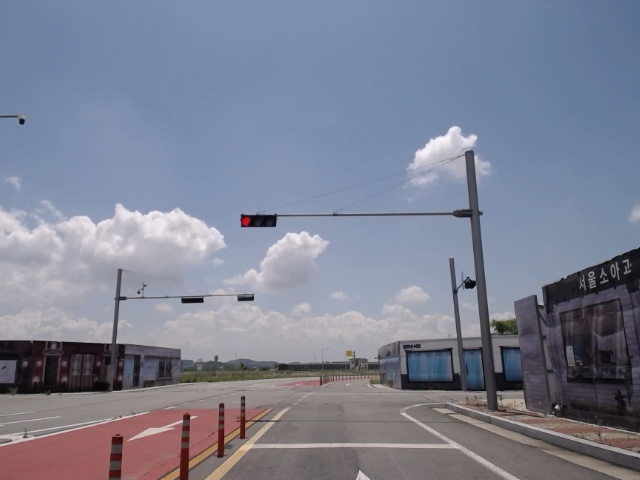red_3: (240, 215, 279, 228)
